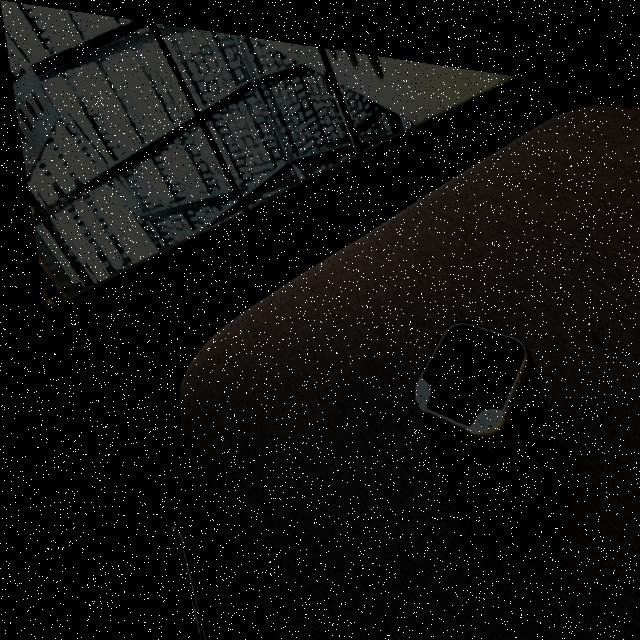adapter: (393, 298, 558, 527)
